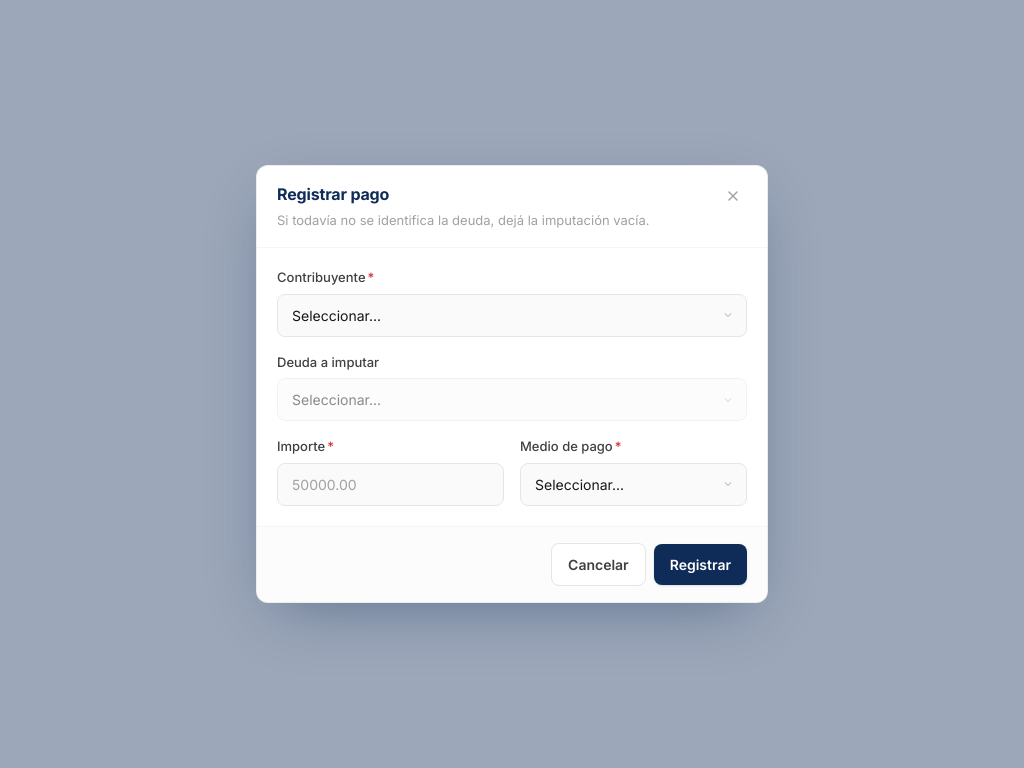
Scenario: Rentas exige el medio de pago antes de enviar el cobro
This screenshot has width=1024, height=768.
Select "QA" in the dropdown labelled "Contribuyente*" at (512, 315), box [277, 294, 747, 337]
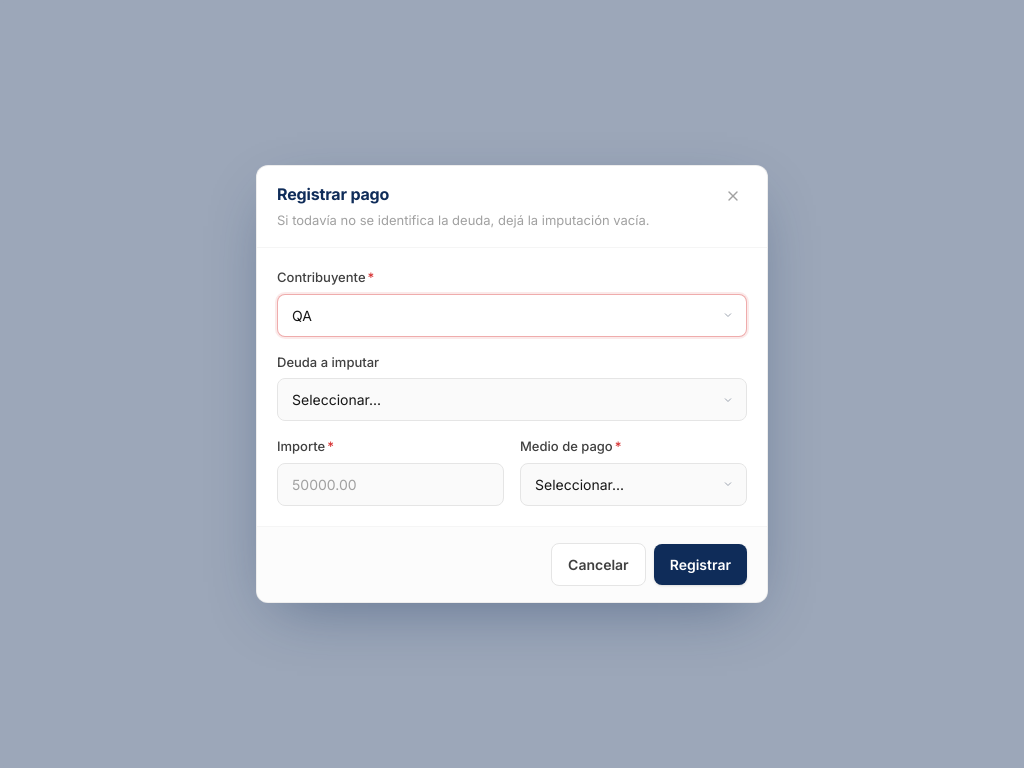
Type "100" into the number field labelled "Importe*" at (390, 484), box [277, 463, 504, 506]
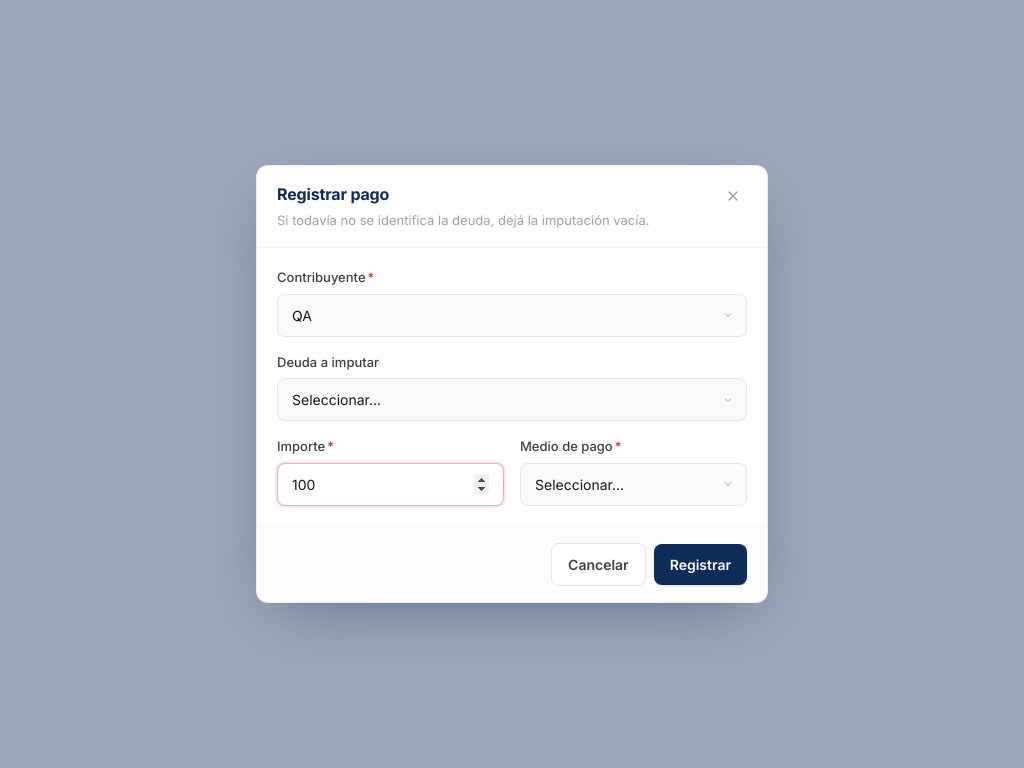
Click the button "Registrar" at (700, 564), box [654, 544, 747, 585]
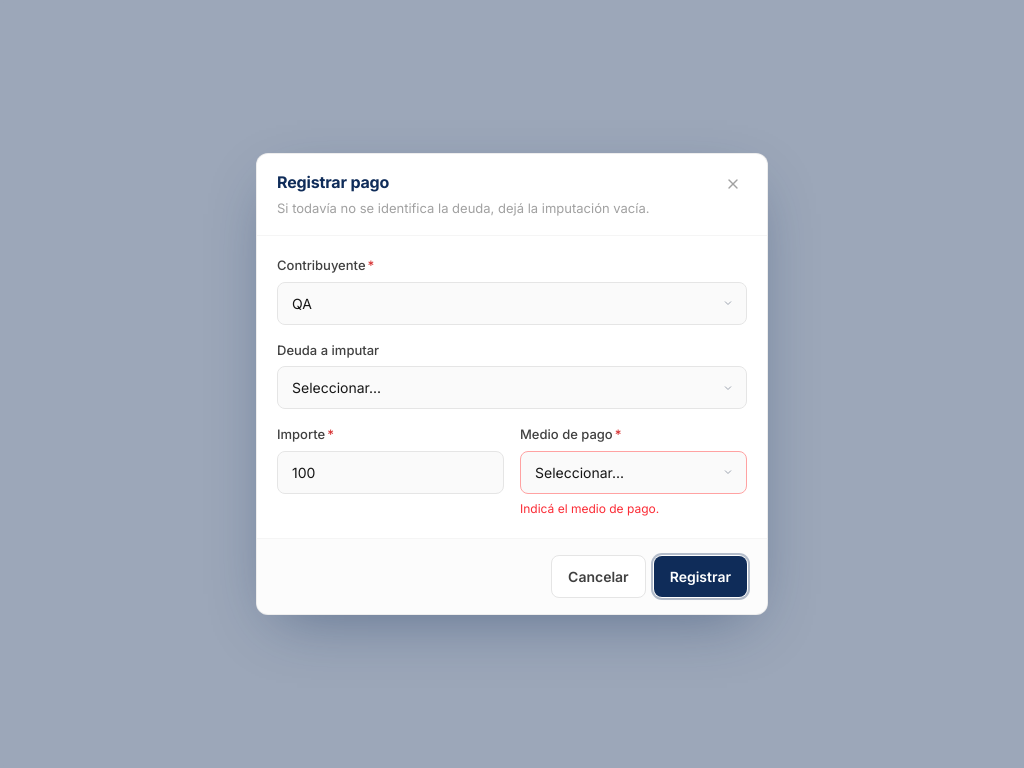
Now the text "Indicá el medio de pago." is shown, box [520, 501, 659, 516]
